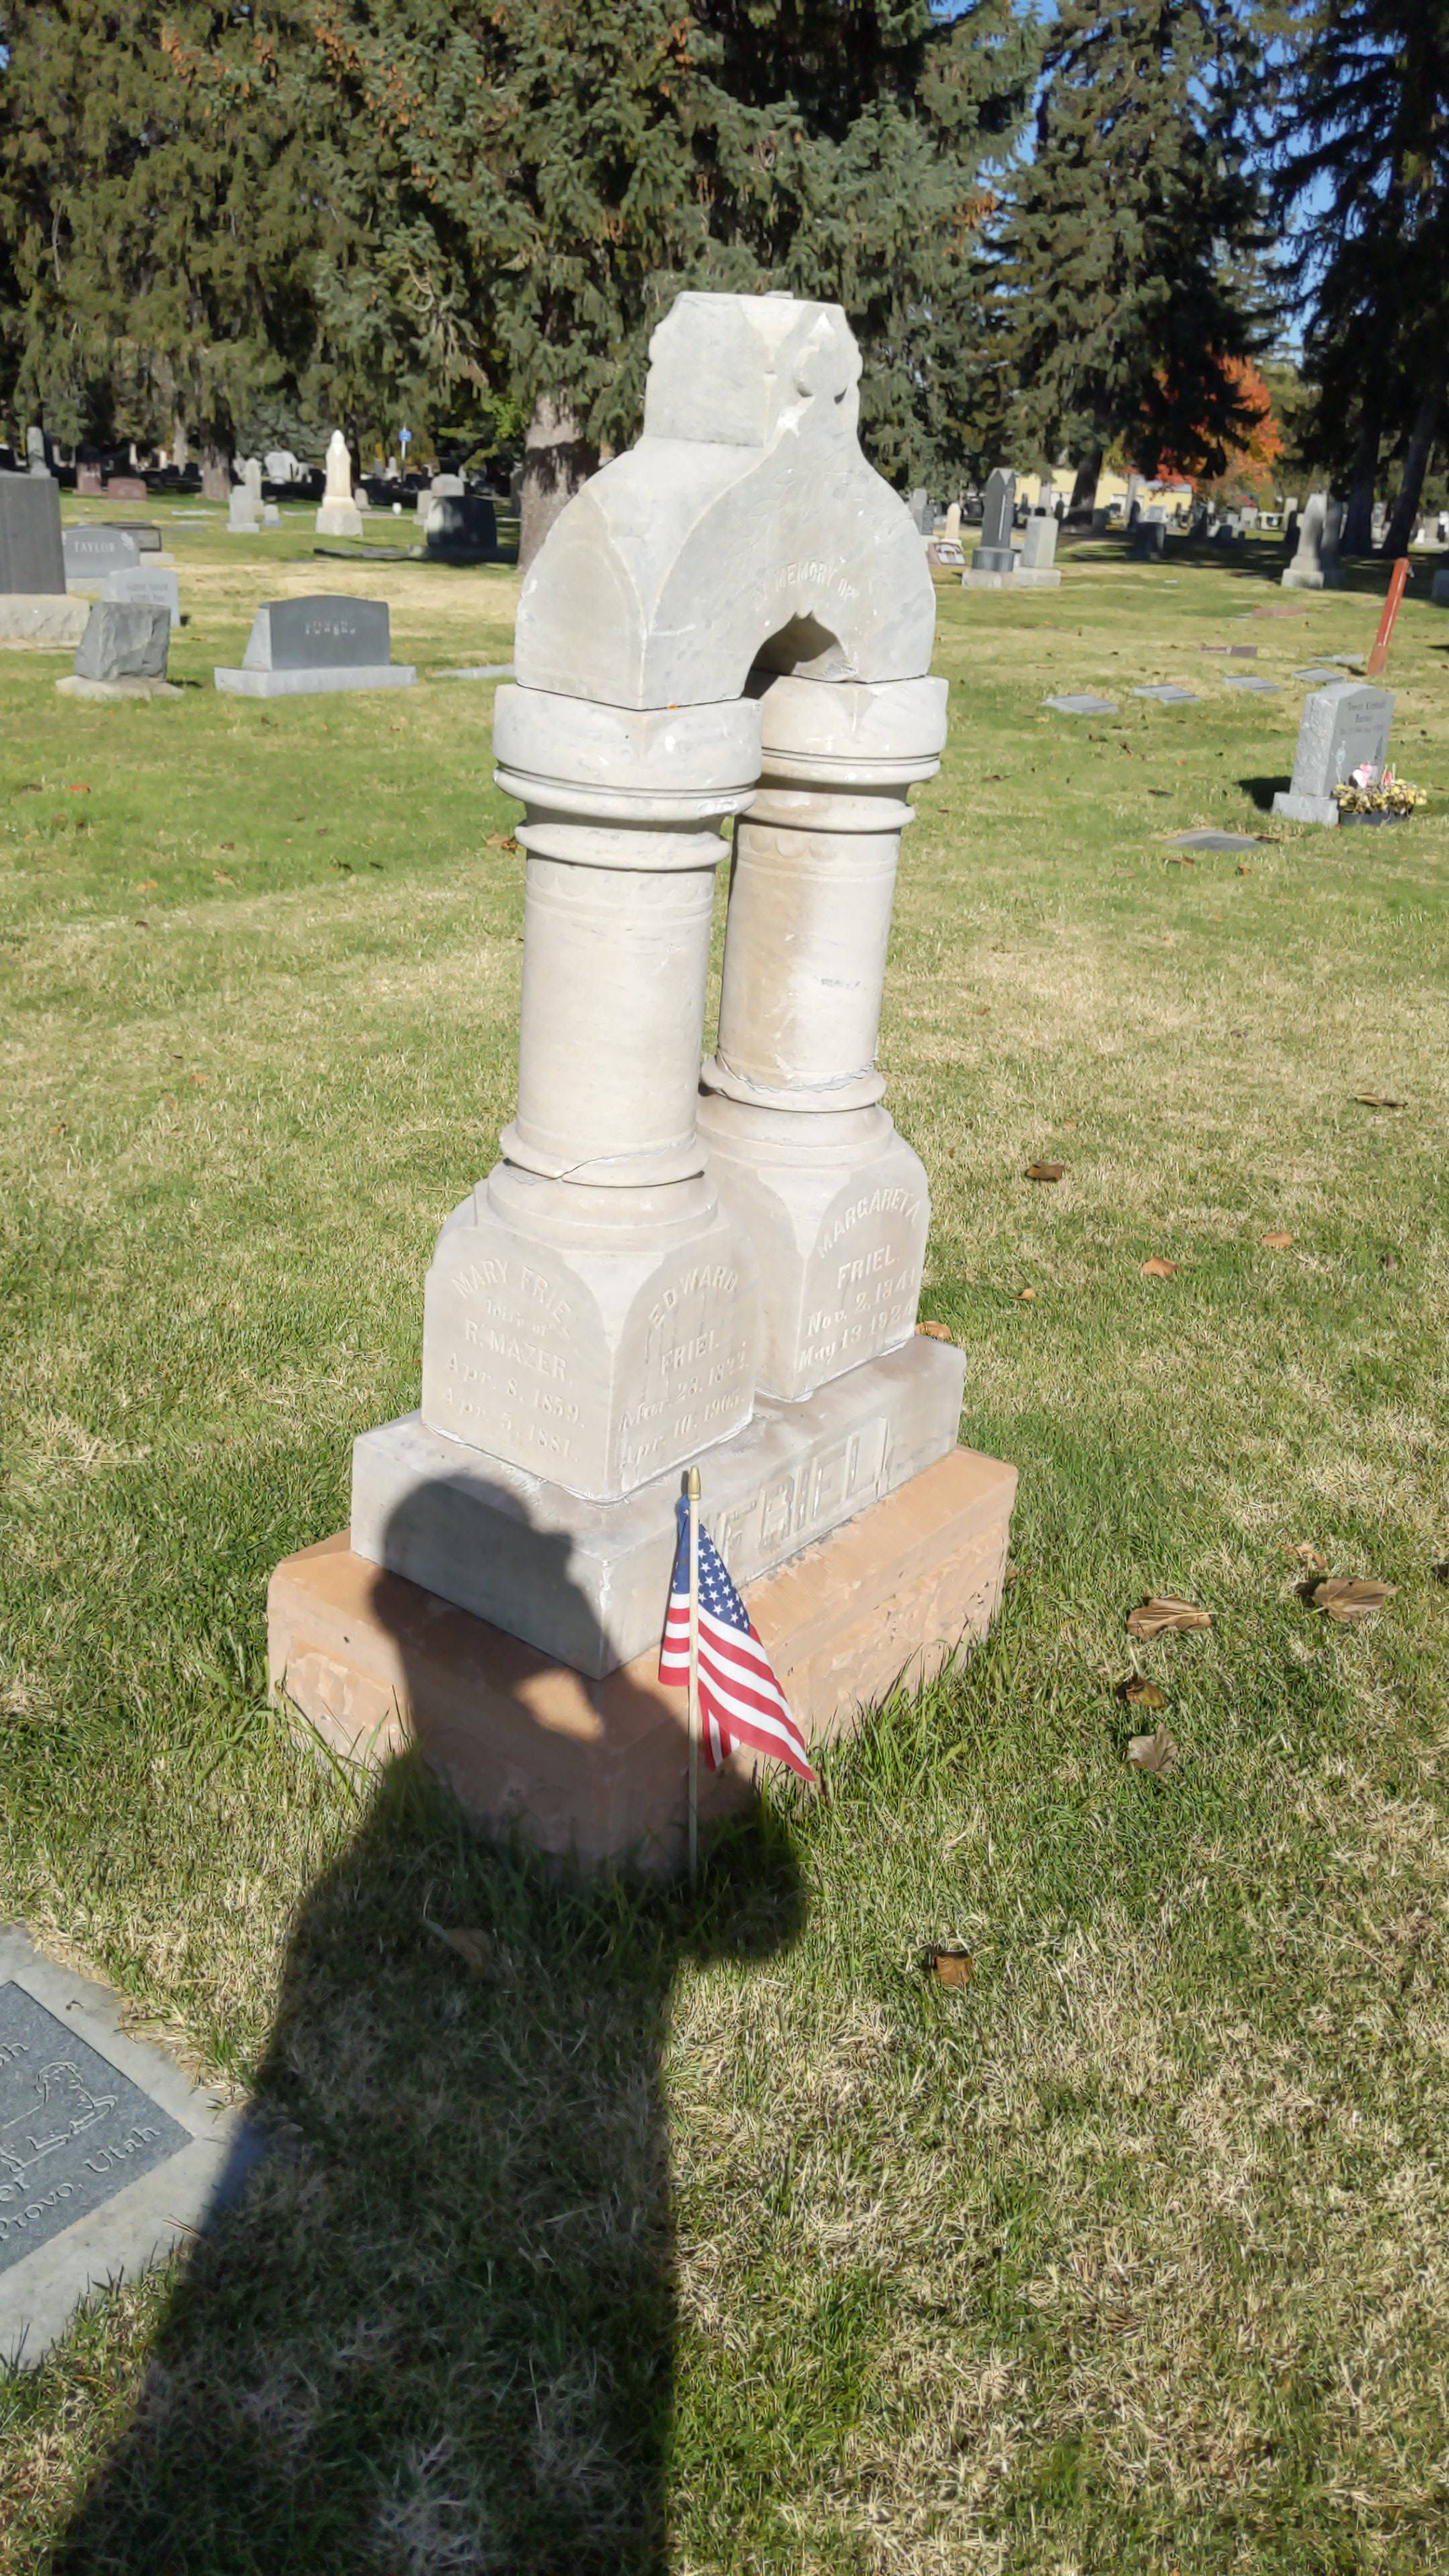obelisk: (354, 288, 954, 1683)
